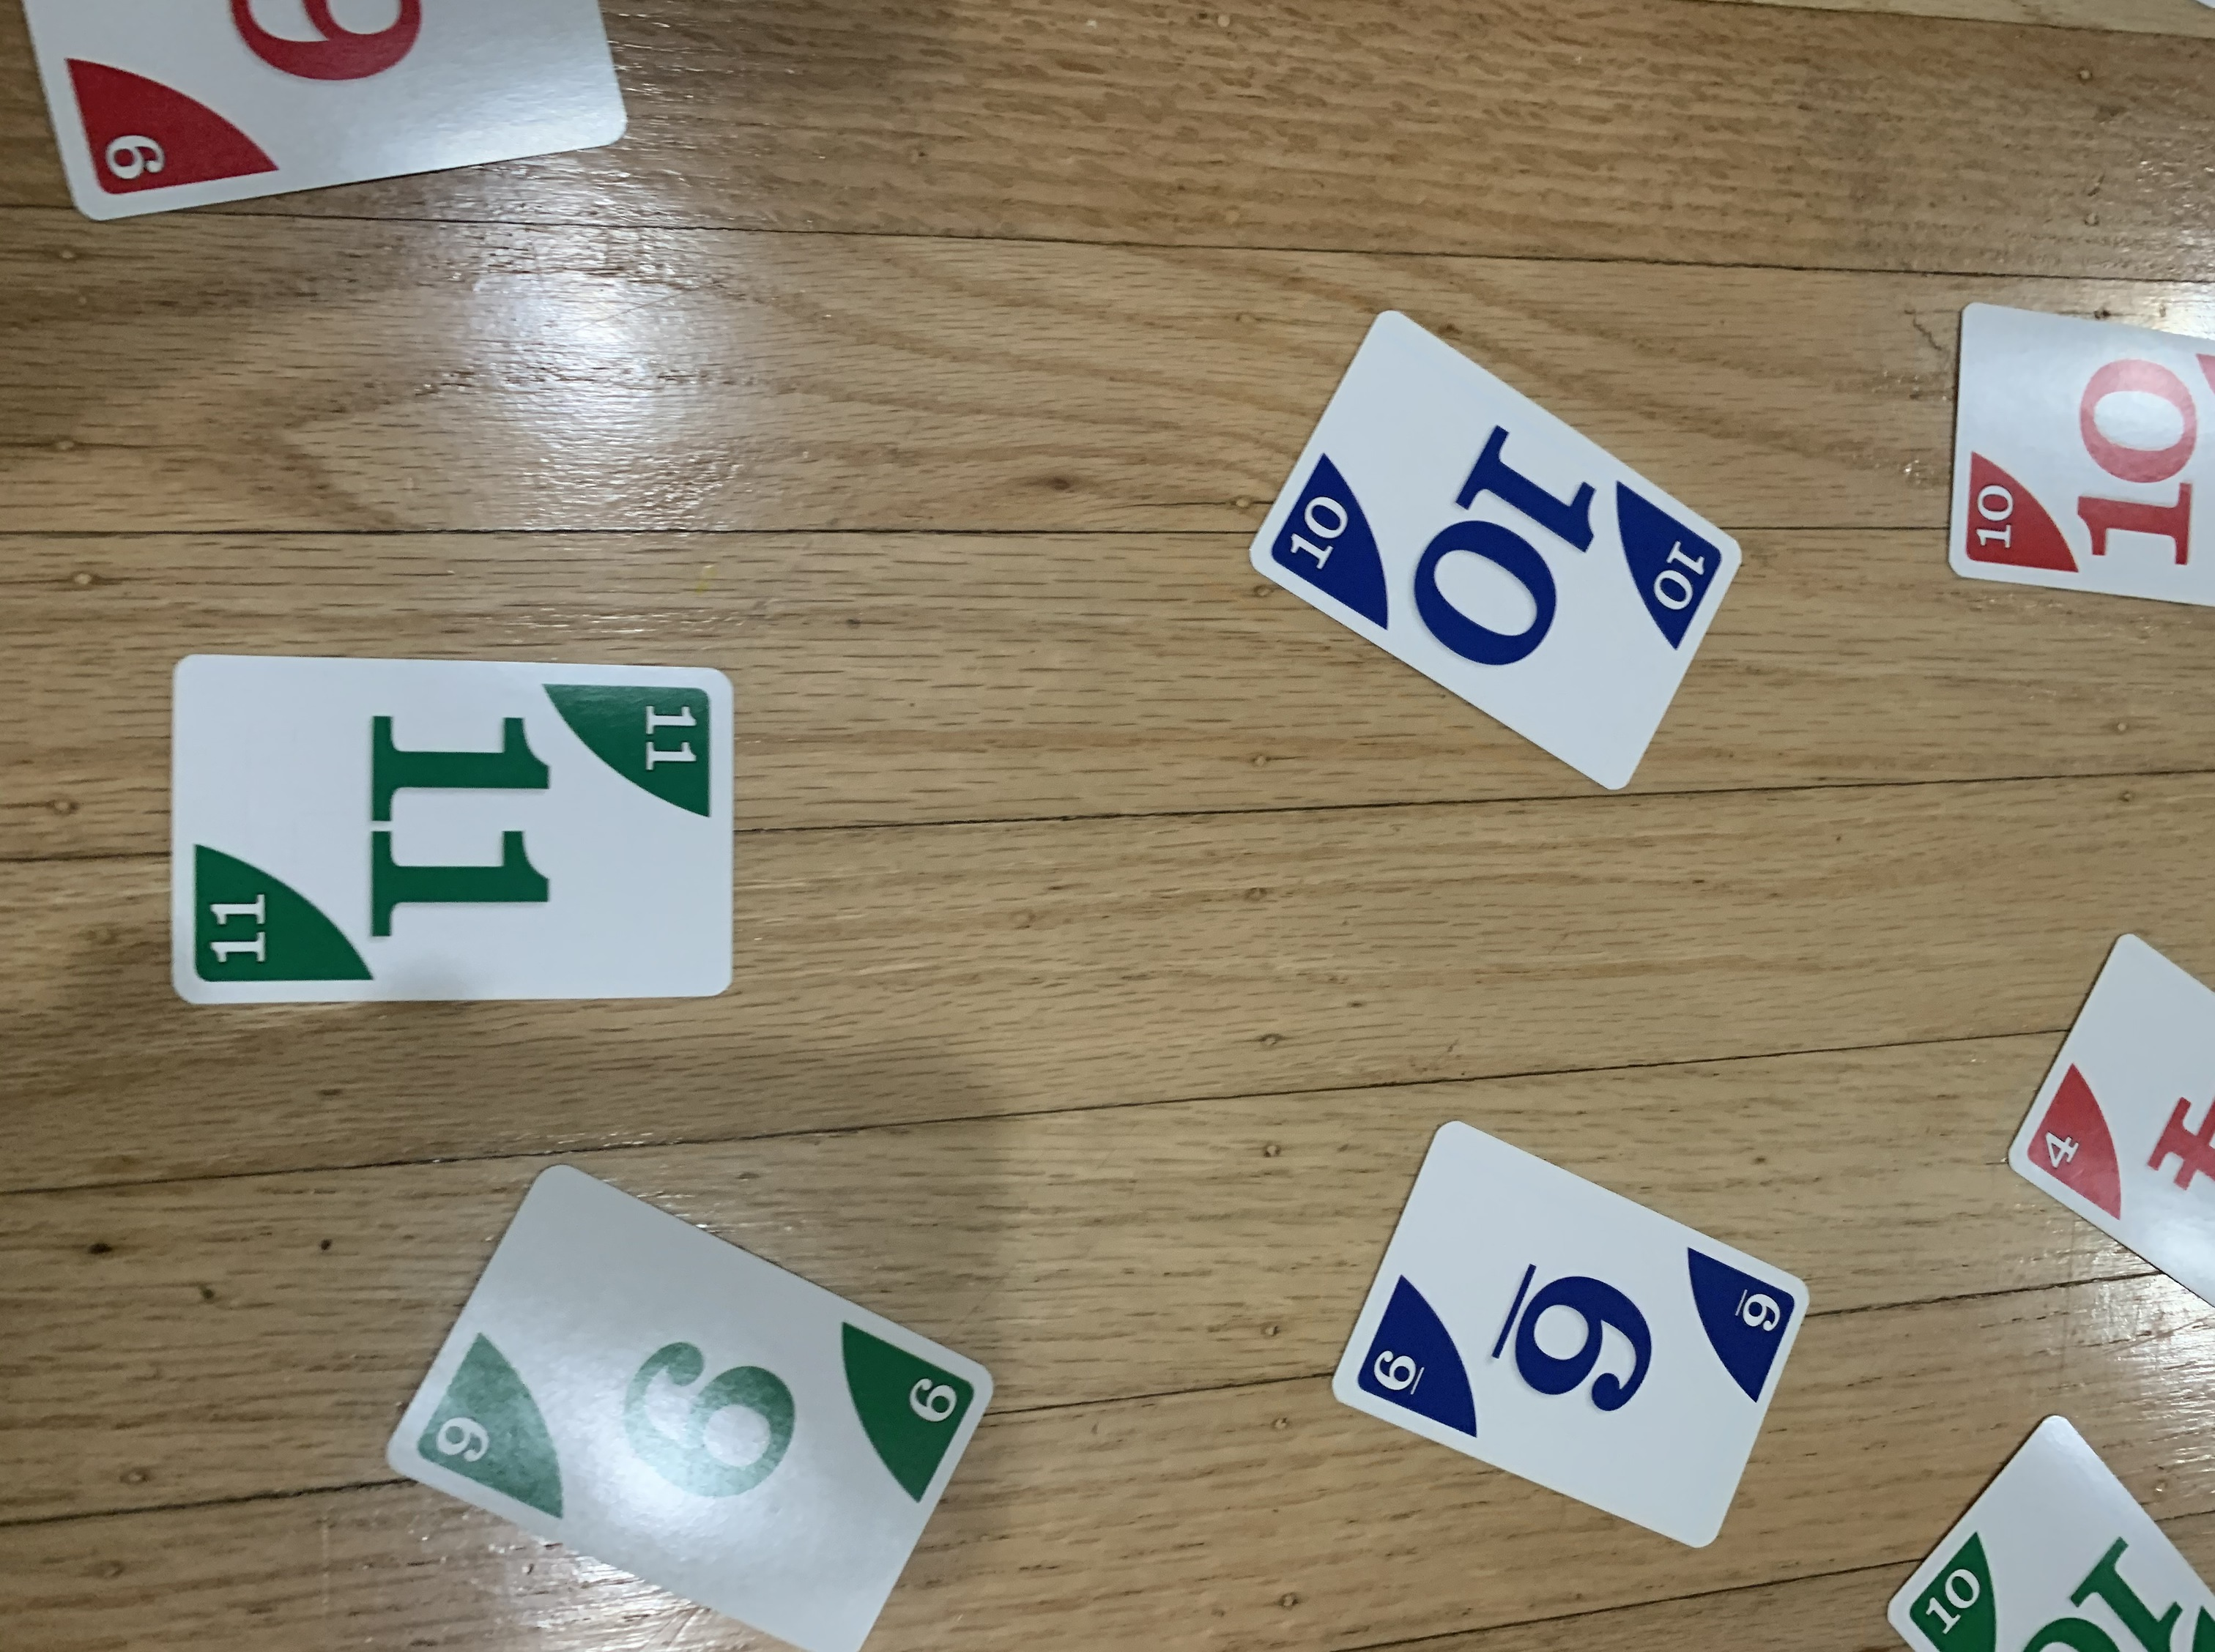eleven: (149, 640, 743, 1017)
six: (368, 1152, 1035, 1652), (1305, 1104, 1824, 1564)
ten: (1236, 295, 1757, 807), (1920, 285, 2215, 618)
